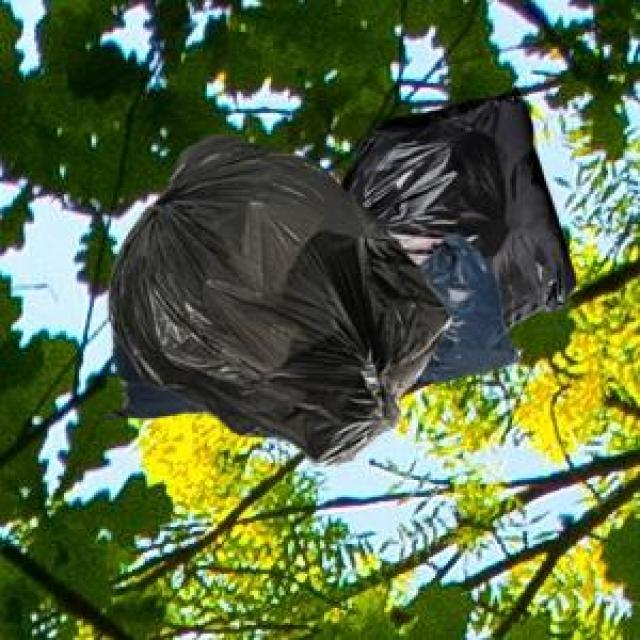Vinyl: (109, 132, 446, 448), (358, 95, 584, 341)
